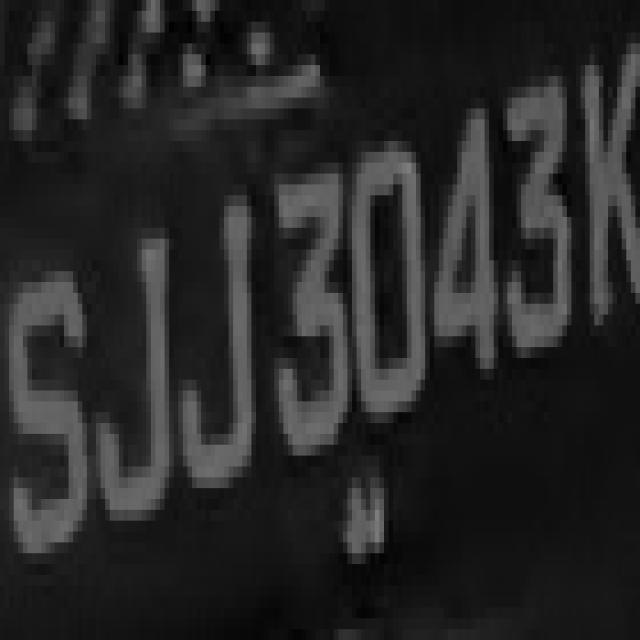0: (343, 87, 434, 434)
3: (494, 22, 580, 369), (279, 141, 356, 466)
4: (425, 76, 508, 423)
J: (87, 195, 183, 542), (178, 185, 265, 542)
K: (4, 0, 5, 6)
S: (5, 238, 96, 596)
